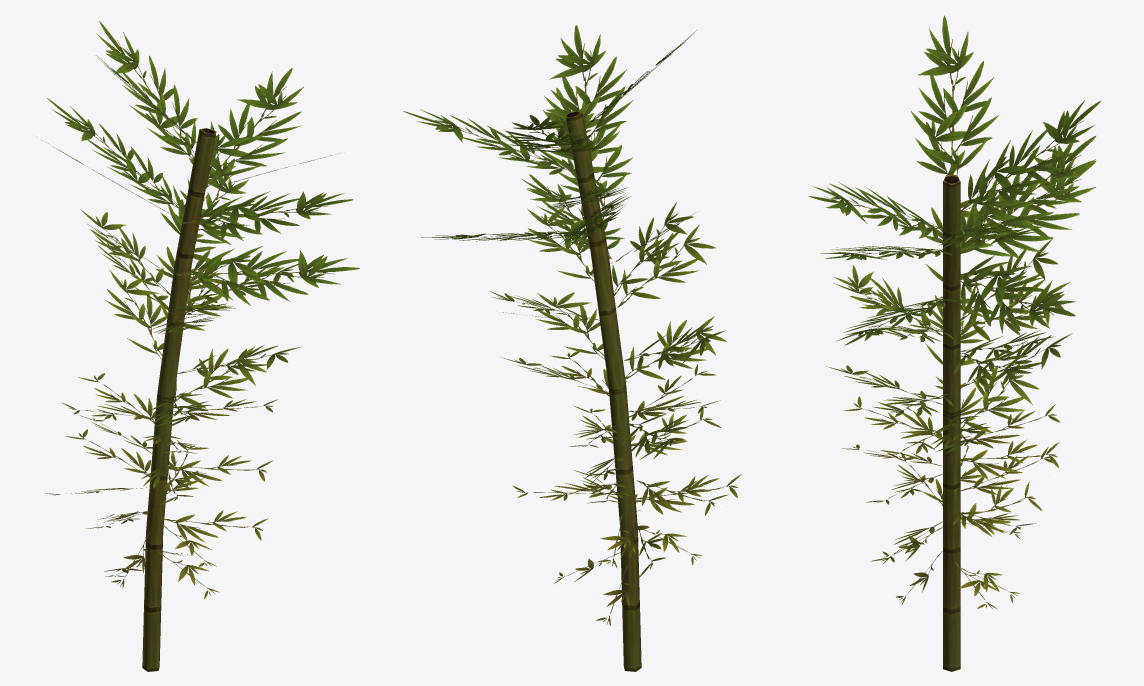
The model's file is bamboo_tree_large.FBX.
The picture shows the model from 3 angles, left to right: view 1: azimuth 30°, elevation 25°; view 2: azimuth 150°, elevation 25°; view 3: azimuth 270°, elevation 25°; orthographic projection. The views are drawn at different scales.
Parts seen in each view (by area): view 1: bamboo_tree_large; view 2: bamboo_tree_large; view 3: bamboo_tree_large.
Boxes of the visible parts, x1,y1,x2,y2 form: bamboo_tree_large: (42, 21, 359, 671); bamboo_tree_large: (403, 25, 741, 671); bamboo_tree_large: (809, 15, 1100, 671).
Bounding box in the file's own units: 580 × 1123 × 563.
